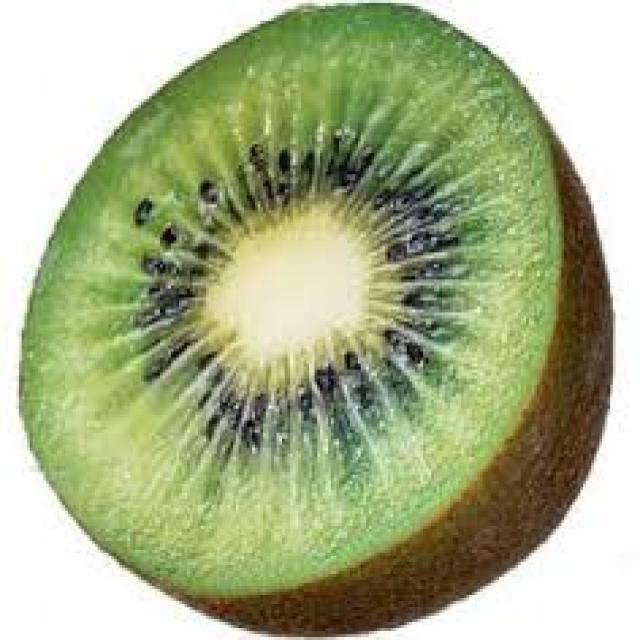organic waste: (19, 0, 613, 637)
